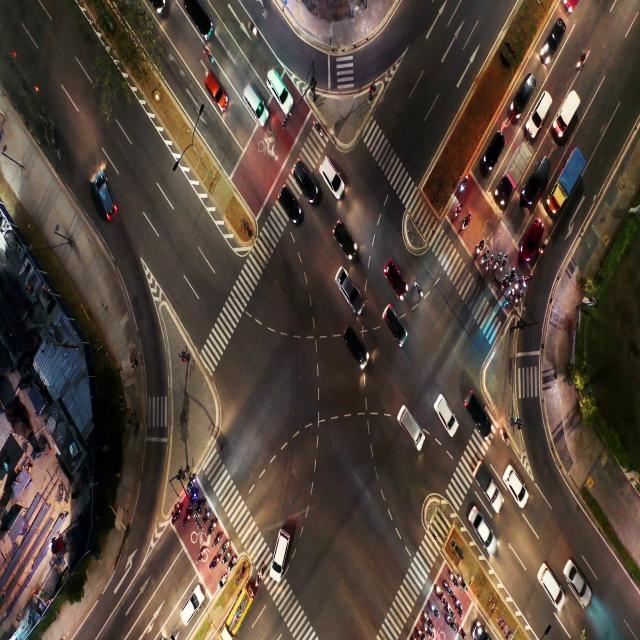bus: (234, 590, 252, 625)
car: (91, 172, 122, 226), (336, 264, 359, 307), (180, 584, 205, 620), (297, 162, 321, 199), (267, 67, 288, 107), (568, 560, 588, 602), (386, 306, 406, 347), (281, 187, 303, 222), (473, 507, 492, 546), (512, 72, 532, 109), (503, 467, 526, 499), (345, 336, 371, 364), (204, 72, 224, 108), (467, 392, 486, 428), (544, 568, 562, 604), (335, 221, 354, 254), (399, 408, 420, 437), (245, 85, 261, 119), (437, 400, 455, 430), (324, 160, 340, 190), (530, 97, 550, 121), (388, 263, 402, 296), (190, 4, 207, 31), (549, 18, 563, 50), (275, 534, 287, 568), (489, 132, 501, 164), (534, 165, 548, 190), (525, 226, 538, 252)
motorcycle: (412, 280, 424, 297), (498, 429, 511, 444), (248, 22, 258, 38), (313, 121, 323, 136), (436, 586, 445, 602), (446, 600, 454, 618), (476, 236, 484, 253), (448, 615, 456, 632), (415, 628, 426, 640), (462, 212, 470, 228), (173, 506, 182, 520), (196, 550, 205, 564), (220, 539, 229, 553), (218, 575, 227, 589), (228, 554, 235, 572), (457, 600, 464, 618), (524, 273, 531, 290), (459, 577, 468, 590), (495, 252, 501, 270), (453, 202, 460, 217), (445, 582, 453, 595), (205, 47, 212, 61), (459, 177, 466, 191), (451, 573, 458, 587), (183, 513, 191, 525), (256, 571, 262, 587), (481, 250, 487, 266), (196, 500, 203, 513), (214, 532, 221, 545), (501, 272, 506, 290), (426, 626, 434, 637), (542, 238, 547, 255), (190, 491, 197, 503), (202, 512, 208, 526), (500, 256, 506, 270), (507, 288, 513, 302), (431, 604, 438, 616), (459, 628, 467, 638), (187, 477, 193, 490), (208, 522, 214, 535), (425, 613, 432, 624), (222, 554, 228, 566), (516, 290, 521, 304), (516, 278, 522, 289), (510, 268, 514, 282), (212, 556, 217, 567), (488, 257, 492, 269)
truck: (505, 146, 525, 191), (557, 153, 576, 200), (477, 457, 492, 492), (558, 101, 573, 126)
